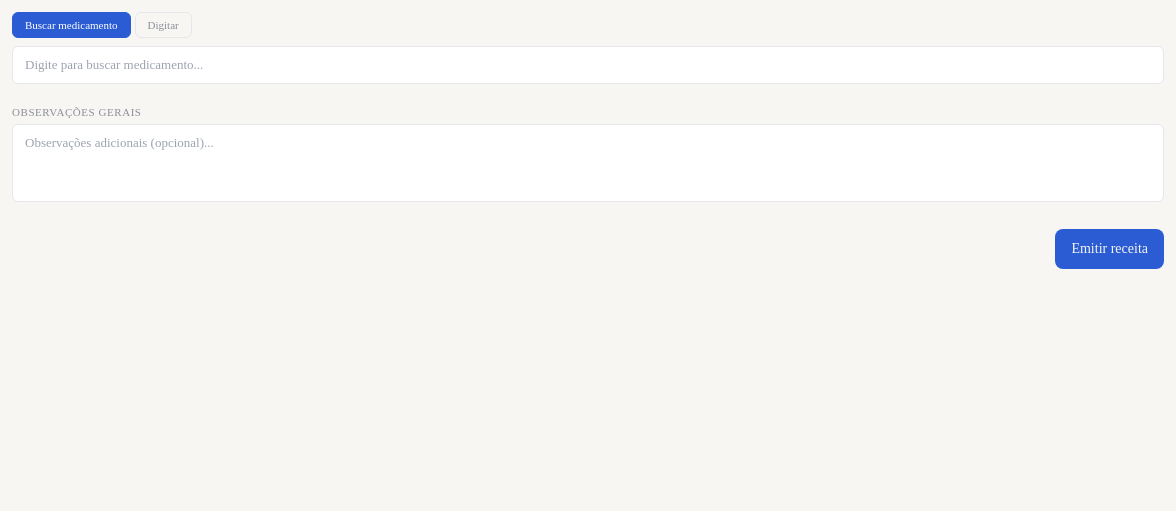
Test case: PrescriptionForm (integration) › adds medication to list on click
Type "dipi" into the field with test id "prescription-form-search" at (588, 65), box top-left (12, 46), bottom-right (1164, 84)
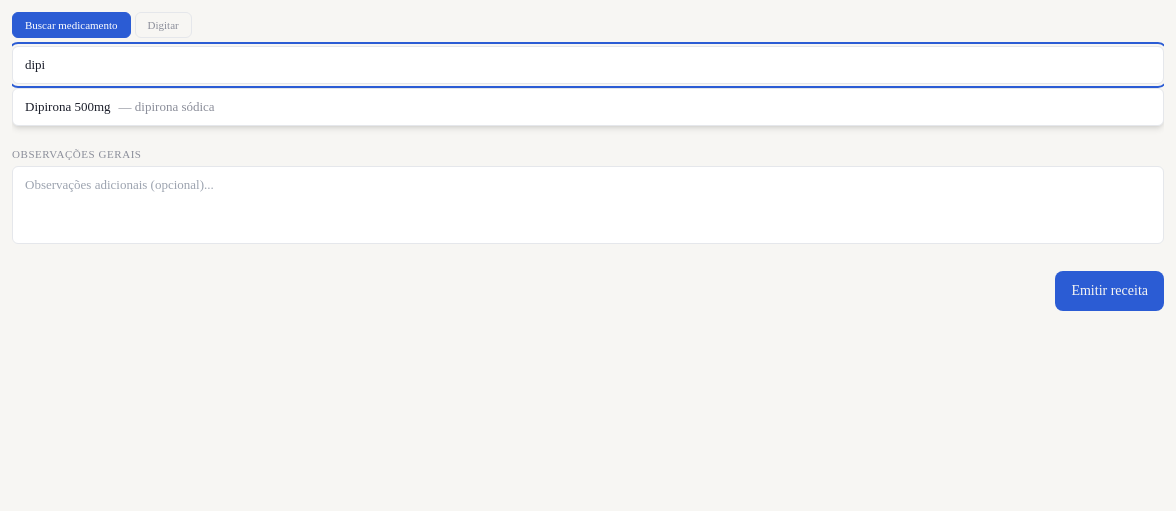
Expected: the button with test id "prescription-form-search-result-med-uuid" is shown
Click the button with test id "prescription-form-search-result-med-uuid" at (68, 106), box top-left (13, 89), bottom-right (1163, 125)
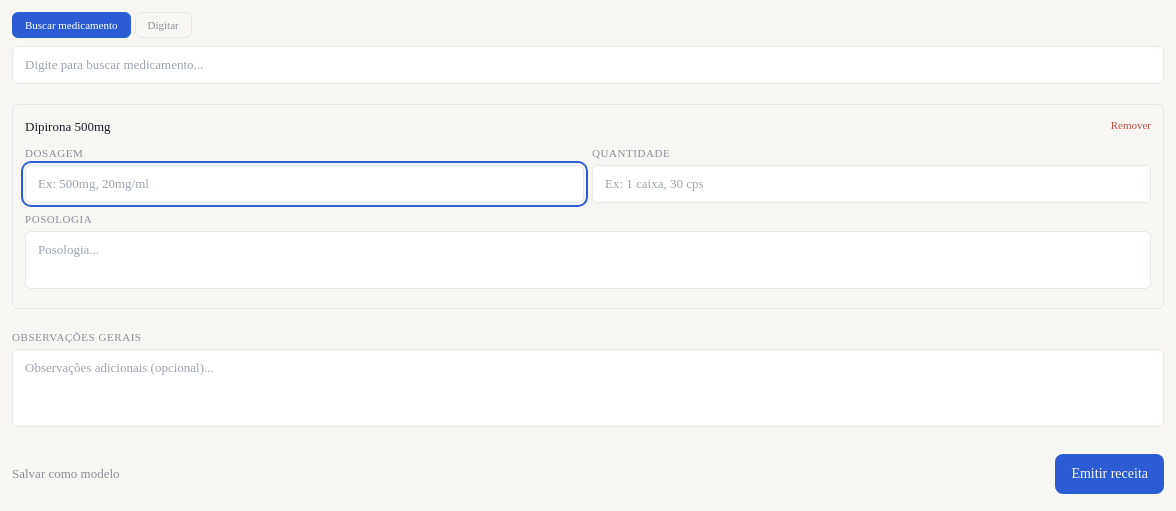
Expected: the text with test id "prescription-form-item-name-0" reads "Dipirona 500mg", top-left (25, 119), bottom-right (111, 134)
Expected: the list item with test id "prescription-form-item-0" is shown, top-left (12, 104), bottom-right (1164, 309)
Expected: the field with test id "prescription-form-search" is empty, top-left (12, 46), bottom-right (1164, 84)
